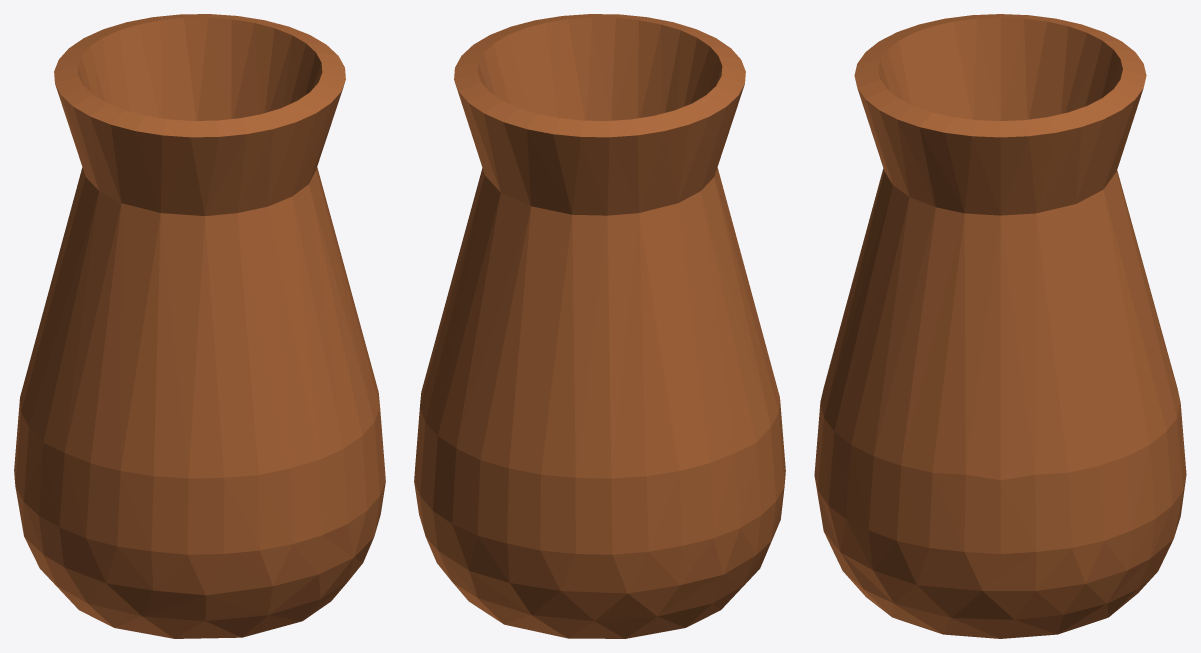
Rendered from Pottery 8_1.fbx.
The picture shows the model from 3 angles, left to right: view 1: azimuth 30°, elevation 25°; view 2: azimuth 150°, elevation 25°; view 3: azimuth 270°, elevation 25°; orthographic projection.
Parts seen in each view (by area): view 1: Pottery 8_1; view 2: Pottery 8_1; view 3: Pottery 8_1.
Part boxes in pixels (x1=…): Pottery 8_1: x1=14, y1=14, x2=385, y2=638; Pottery 8_1: x1=414, y1=14, x2=785, y2=638; Pottery 8_1: x1=814, y1=14, x2=1186, y2=638.
Bounding box in the file's own units: 30.34 × 45.97 × 30.35.
